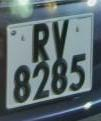2: (32, 59, 51, 102)
5: (67, 51, 88, 93)
8: (13, 62, 33, 106), (50, 57, 70, 98)
R: (29, 18, 52, 64)
V: (50, 17, 71, 61)
